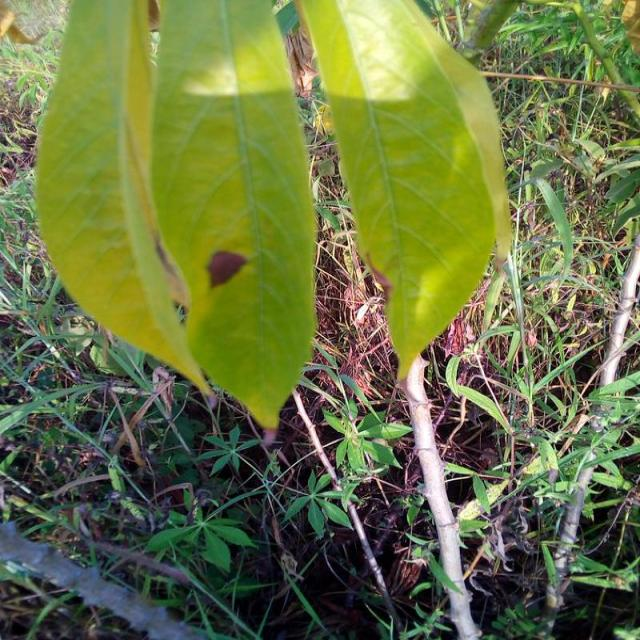cassava leaf: (293, 0, 513, 382), (33, 0, 216, 403), (148, 0, 318, 431)
